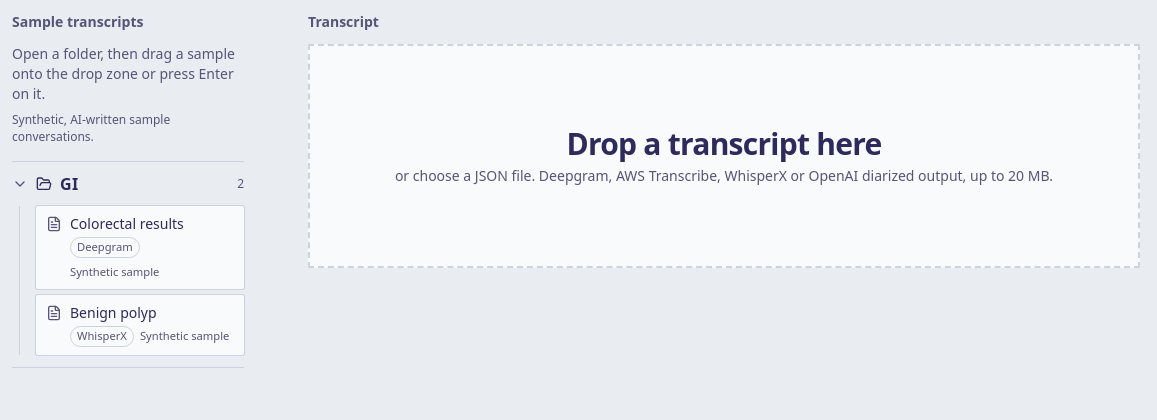
Test: TranscriptDrop with sample transcripts › shows a clear error when the sample file cannot be fetched, without posting
Click the button "Colorectal results Deepgram Synthetic sample": click(140, 247) [36,206,244,289]
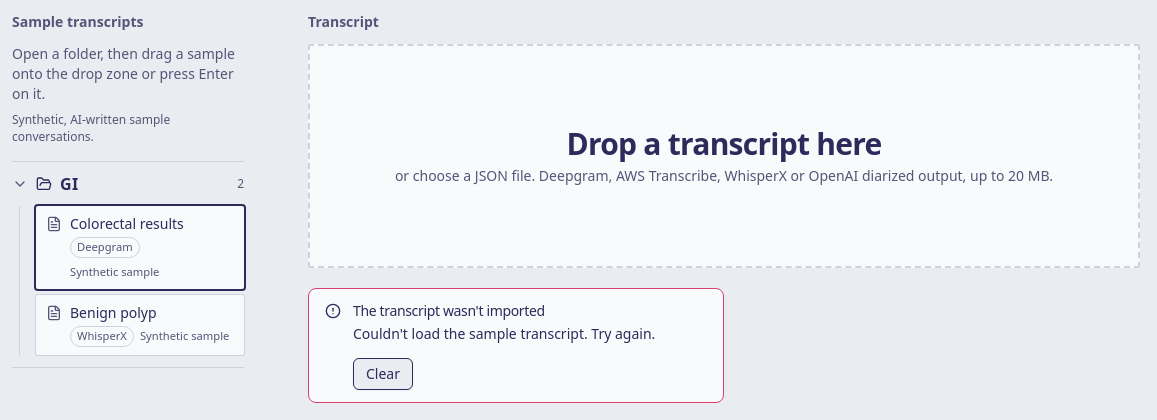
Result: the text "Couldn't load the sample transcript. Try again." is shown at [353,323,707,346]
